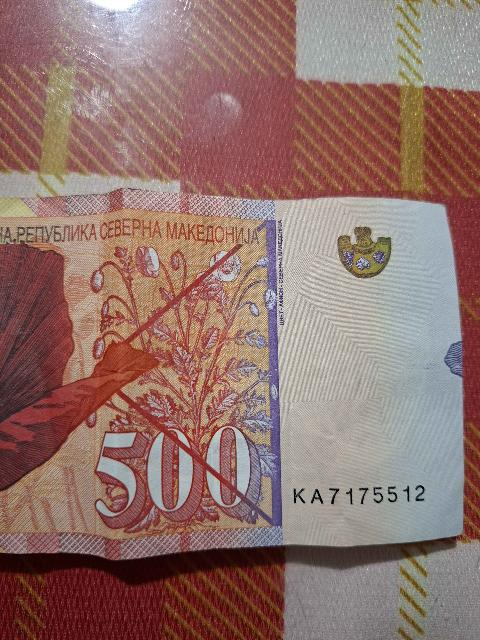note: (0, 197, 463, 558)
